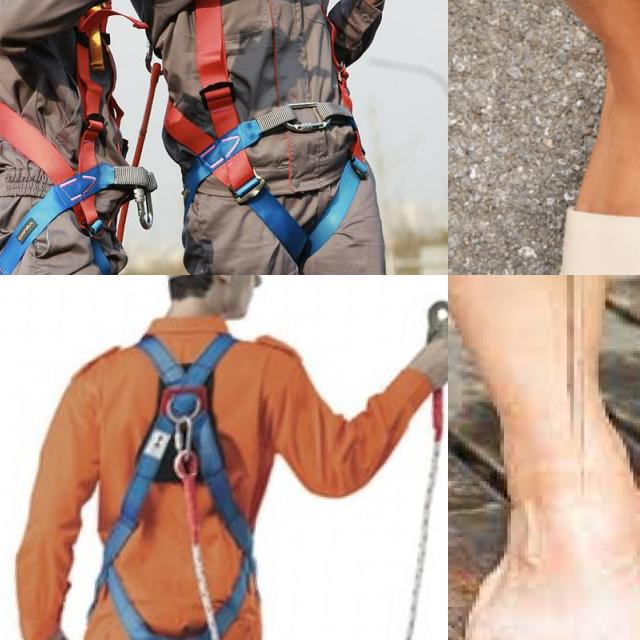Barefoots: (461, 479, 640, 640)
Harness: (154, 0, 357, 273), (90, 333, 255, 640), (0, 44, 157, 262)
Sandals: (562, 10, 640, 275)
